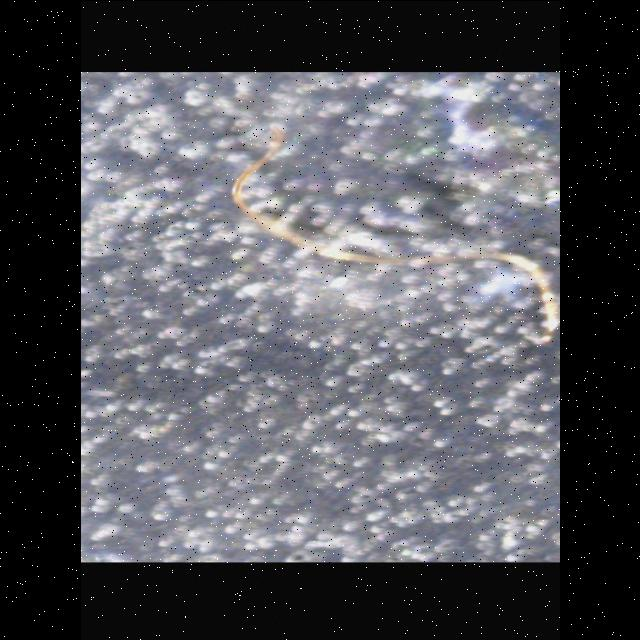Fibre: (228, 122, 560, 344)
